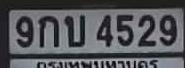2: (137, 14, 154, 46)
4: (96, 14, 112, 46)
5: (116, 14, 132, 45)
9: (15, 15, 32, 46), (159, 14, 176, 44)
A01: (38, 15, 58, 47)
A26: (63, 14, 84, 46)
